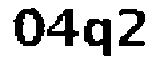0: (9, 6, 46, 50)
2: (113, 4, 153, 50)
4: (46, 8, 81, 50)
q: (81, 14, 111, 60)
